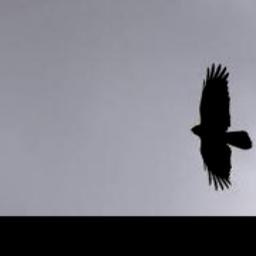Crow: (192, 62, 253, 191)
